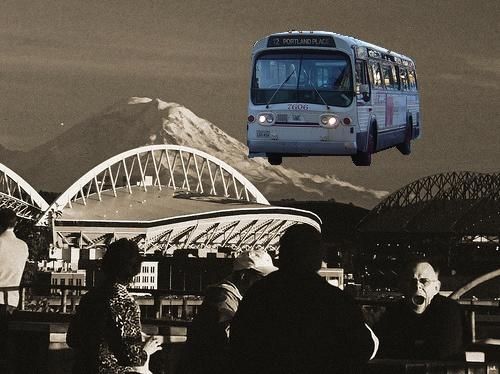tampered: (248, 31, 421, 166)
